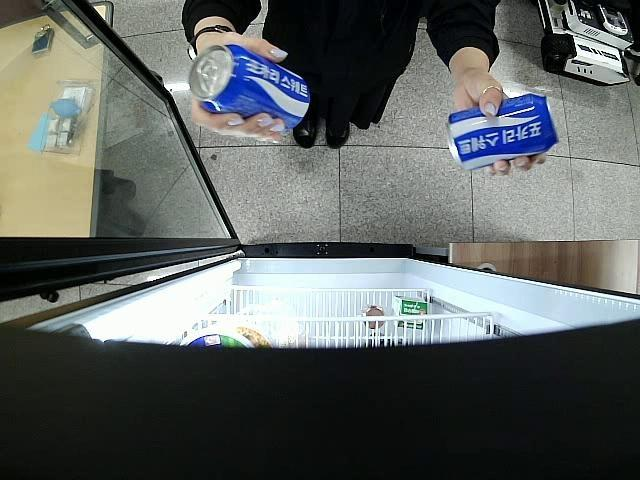13_pocariSweat: (442, 90, 560, 173), (191, 46, 310, 128)
